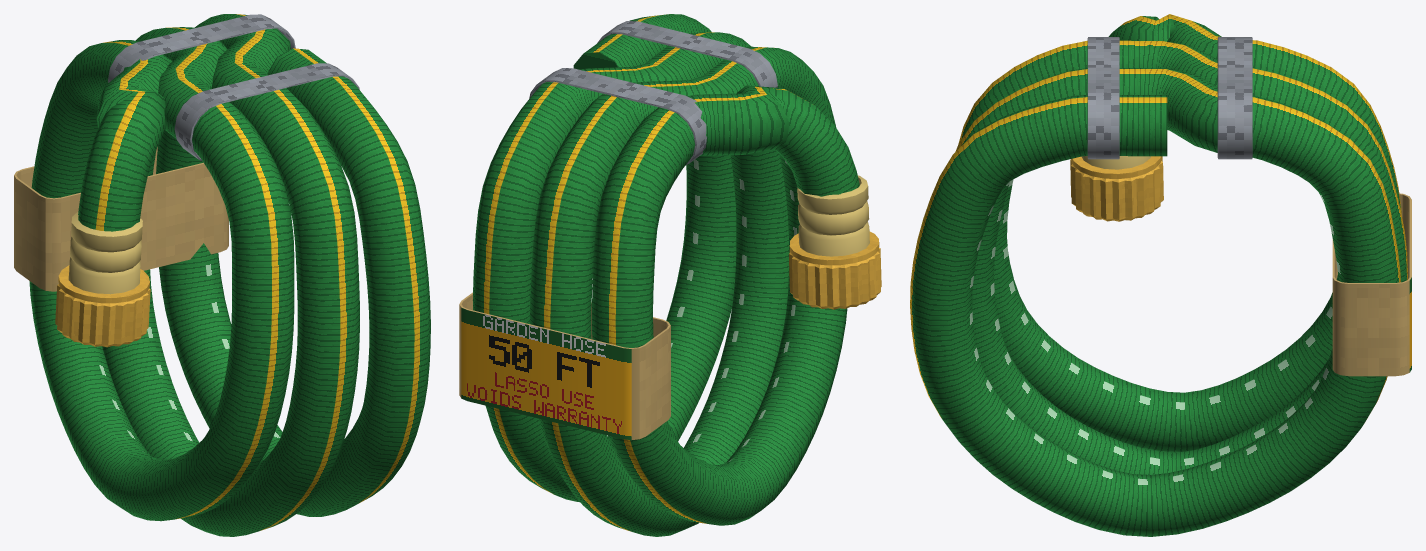
The model's file is w_lasso_hose.glb.
The picture shows the model from 3 angles, left to right: view 1: azimuth 30°, elevation 25°; view 2: azimuth 150°, elevation 25°; view 3: azimuth 270°, elevation 25°; orthographic projection.
Visible parts, largest first — view 1: hose_wzA, hose_wzB, hose_wzN; view 2: hose_wzA, hose_wzN, hose_wzB; view 3: hose_wzA, hose_wzB, hose_wzN.
Boxes of the visible parts, x1,y1,x2,y2 form: hose_wzA: (29,14,430,536); hose_wzB: (55,14,359,347); hose_wzN: (14,147,228,291); hose_wzA: (472,14,859,536); hose_wzN: (459,292,670,440); hose_wzB: (529,21,881,309); hose_wzA: (910,14,1407,536); hose_wzB: (1070,37,1252,221); hose_wzN: (1332,193,1411,376).
Bounding box in the file's own units: 0.2324 × 0.3573 × 0.355.
Materials: 7 (5 with a texture image).
